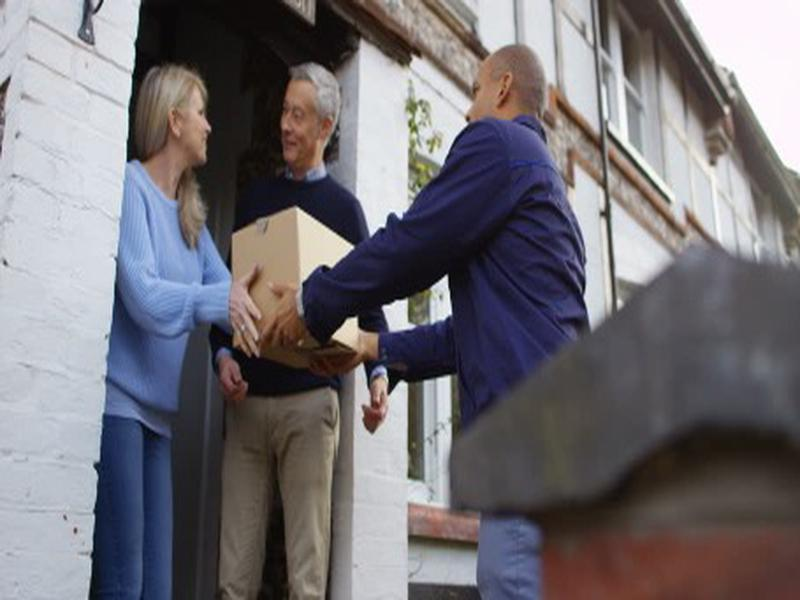package: (225, 206, 365, 386)
